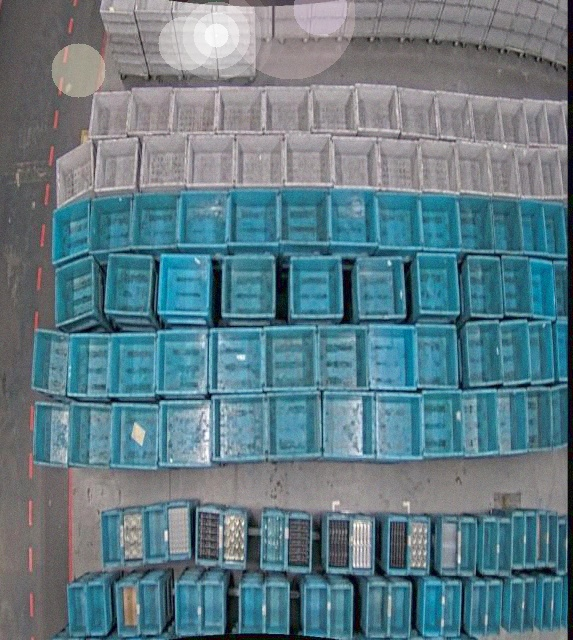Box: (221, 253, 277, 322), (156, 252, 212, 320), (289, 254, 344, 323), (262, 324, 317, 392), (161, 398, 214, 468), (155, 327, 208, 396), (110, 400, 162, 470), (208, 328, 263, 394), (226, 186, 281, 250), (218, 393, 268, 463), (356, 255, 408, 322), (53, 256, 100, 330), (270, 392, 321, 459), (109, 330, 158, 398), (102, 252, 153, 316), (64, 400, 112, 468), (276, 187, 328, 249), (178, 188, 229, 251), (368, 323, 415, 391), (234, 133, 286, 193), (186, 133, 236, 195), (64, 331, 110, 398), (323, 392, 368, 460), (327, 188, 377, 249), (130, 189, 179, 251), (137, 134, 186, 196), (31, 399, 75, 468), (318, 325, 363, 392), (282, 132, 332, 192), (89, 192, 136, 255), (415, 252, 459, 318), (374, 394, 418, 460), (90, 137, 140, 195), (420, 391, 463, 458), (331, 135, 379, 194), (373, 190, 420, 250), (50, 201, 92, 268), (309, 81, 359, 137), (415, 323, 457, 389), (263, 84, 313, 138), (168, 84, 218, 138), (217, 82, 267, 136), (31, 327, 69, 398), (89, 88, 137, 144), (356, 80, 402, 138), (56, 139, 93, 210), (376, 138, 421, 196), (463, 321, 502, 386), (417, 194, 460, 252), (129, 86, 174, 141), (433, 88, 475, 144), (464, 255, 501, 318), (397, 85, 439, 140), (417, 140, 458, 193), (455, 142, 492, 198), (456, 195, 492, 252), (489, 196, 523, 254), (497, 322, 528, 383), (486, 146, 521, 200), (496, 391, 526, 454), (472, 391, 500, 456), (512, 147, 546, 200), (500, 256, 530, 316), (195, 506, 223, 568), (524, 389, 552, 451), (495, 96, 529, 147), (527, 322, 555, 383), (470, 96, 503, 147), (218, 507, 245, 568), (142, 504, 169, 565), (166, 500, 193, 561), (262, 508, 288, 570), (520, 197, 547, 255), (528, 260, 555, 318), (286, 510, 310, 573), (175, 580, 201, 637), (325, 514, 350, 573), (326, 583, 352, 639), (122, 509, 146, 569), (304, 582, 330, 637), (521, 97, 549, 148), (100, 511, 124, 570), (537, 148, 564, 200), (387, 514, 410, 575), (350, 514, 373, 574), (199, 584, 224, 639), (138, 580, 162, 637), (240, 582, 266, 634), (83, 581, 107, 637), (408, 514, 430, 574), (388, 582, 411, 638), (116, 580, 138, 638), (544, 201, 567, 256), (366, 582, 389, 637), (421, 581, 443, 637), (264, 585, 289, 634), (439, 515, 459, 574), (441, 584, 461, 640), (467, 580, 486, 638), (546, 100, 568, 150), (551, 384, 568, 448), (460, 516, 478, 574), (67, 584, 86, 637), (485, 582, 503, 637), (553, 261, 568, 321), (484, 516, 499, 574), (508, 579, 523, 634), (524, 510, 538, 568), (546, 511, 560, 569), (512, 510, 526, 568), (522, 579, 536, 634), (556, 320, 568, 383), (537, 510, 550, 568), (540, 577, 553, 632), (551, 577, 563, 632), (531, 578, 543, 632), (558, 519, 568, 576), (171, 0, 212, 13), (135, 0, 174, 13), (99, 0, 136, 13), (212, 5, 255, 13)
